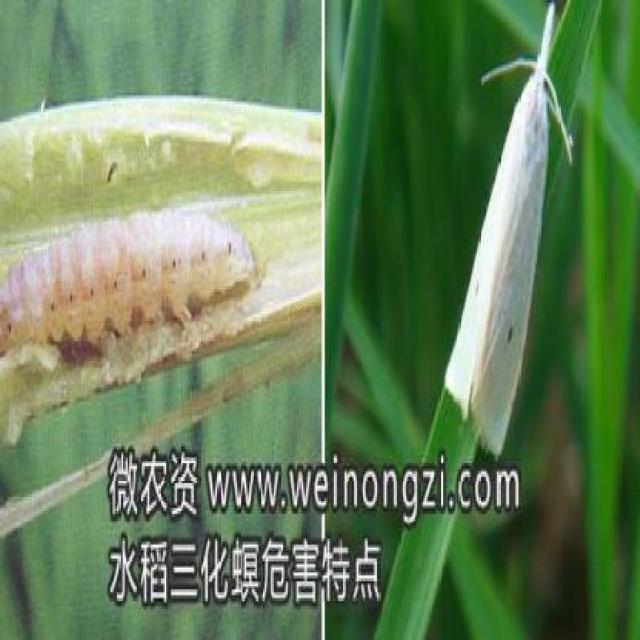stem-borer: (441, 2, 577, 458)
